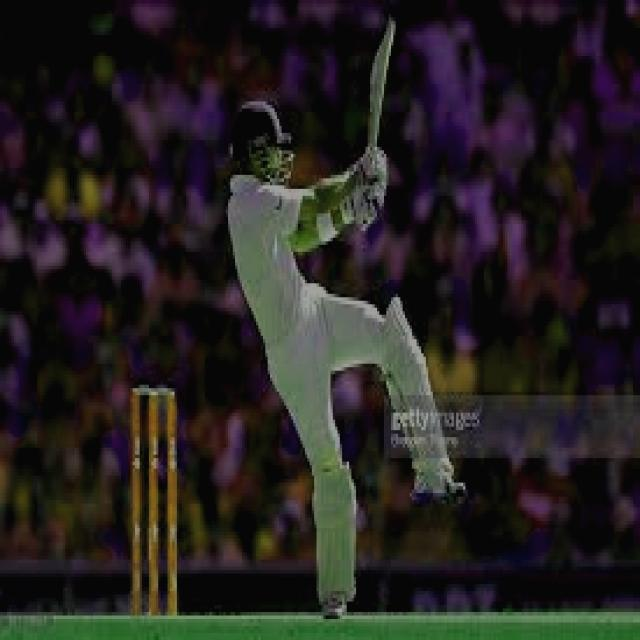toe: (378, 18, 403, 58)
